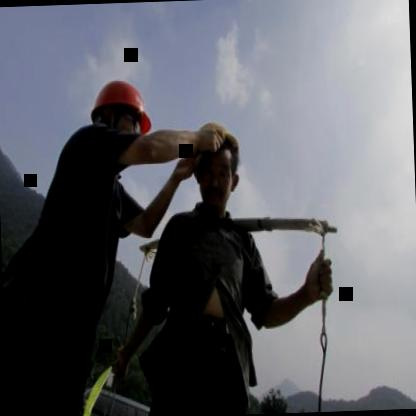helmet: (84, 72, 156, 157), (187, 118, 245, 209)
